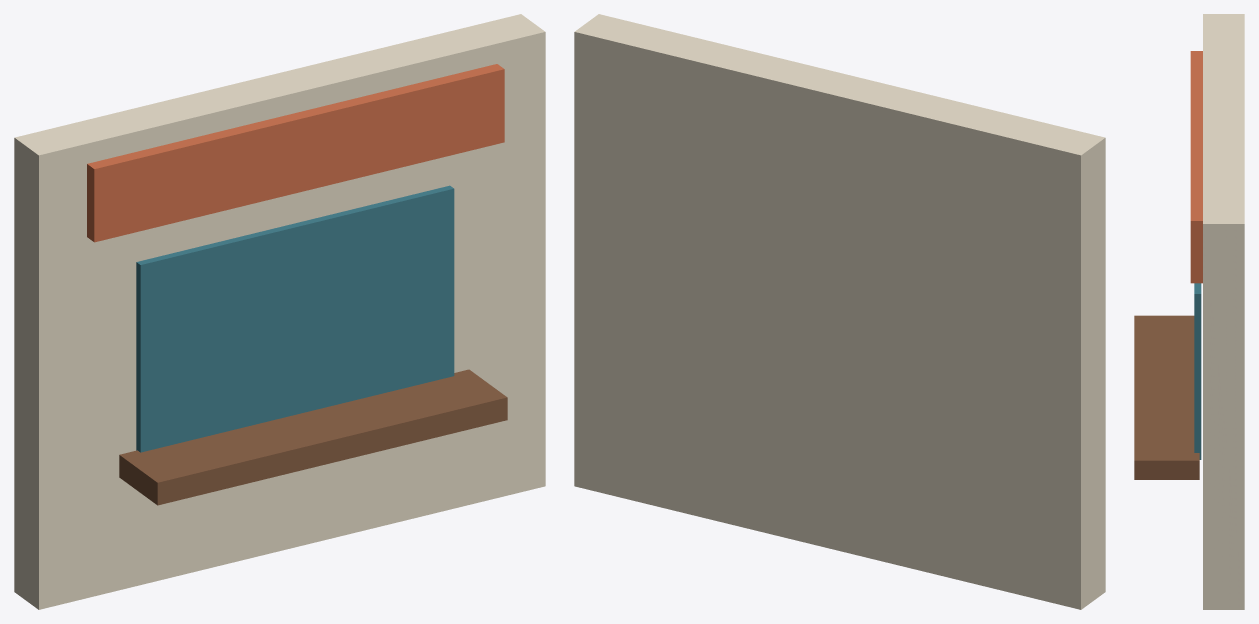
Rendered from bh_cafe_storefront_karak_a_01.glb.
3 views of the same model, side by side, from view 1: azimuth 30°, elevation 25°; view 2: azimuth 150°, elevation 25°; view 3: azimuth 270°, elevation 25° (orthographic). The views are drawn at different scales.
Visible parts, largest first — view 1: bh_cafe_storefront_karak_a_01_shell, bh_cafe_storefront_karak_a_01_service_window, bh_cafe_storefront_karak_a_01_fascia, bh_cafe_storefront_karak_a_01_counter; view 2: bh_cafe_storefront_karak_a_01_shell; view 3: bh_cafe_storefront_karak_a_01_shell, bh_cafe_storefront_karak_a_01_counter, bh_cafe_storefront_karak_a_01_fascia, bh_cafe_storefront_karak_a_01_service_window.
Part boxes in pixels (x1,y1,x2,y2): bh_cafe_storefront_karak_a_01_shell: [14, 14, 545, 609]; bh_cafe_storefront_karak_a_01_service_window: [136, 185, 454, 452]; bh_cafe_storefront_karak_a_01_fascia: [87, 64, 504, 242]; bh_cafe_storefront_karak_a_01_counter: [119, 369, 507, 505]; bh_cafe_storefront_karak_a_01_shell: [574, 14, 1105, 609]; bh_cafe_storefront_karak_a_01_shell: [1203, 14, 1244, 609]; bh_cafe_storefront_karak_a_01_counter: [1134, 315, 1199, 479]; bh_cafe_storefront_karak_a_01_fascia: [1190, 51, 1202, 283]; bh_cafe_storefront_karak_a_01_service_window: [1194, 283, 1201, 459].
Bounding box in the file's own units: 4.2 × 3.6 × 0.93.
